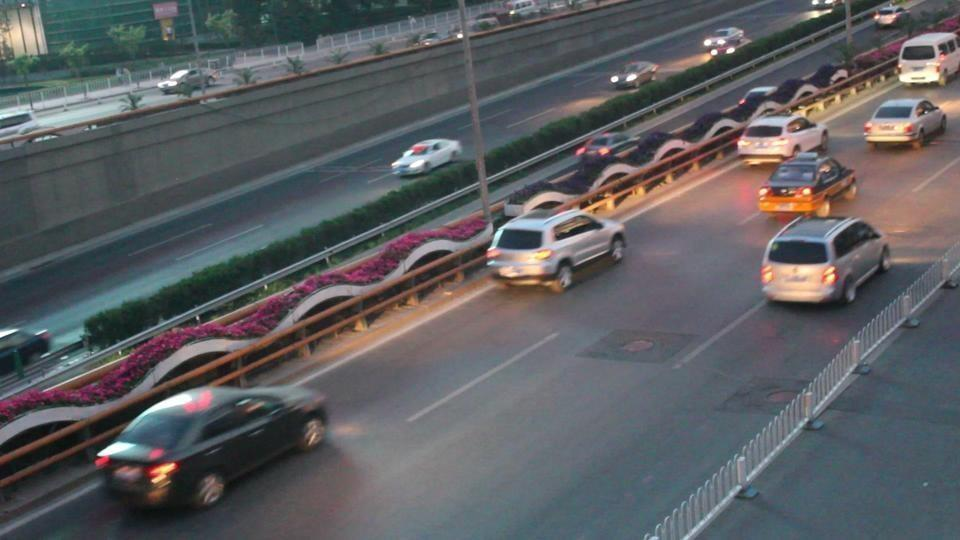car: (93, 382, 330, 514), (760, 213, 894, 305), (486, 207, 628, 293), (758, 150, 858, 217), (736, 111, 831, 164), (863, 96, 948, 151), (895, 31, 960, 88), (391, 138, 462, 178), (0, 325, 53, 373), (608, 59, 660, 90), (159, 68, 213, 95), (0, 106, 36, 137)
